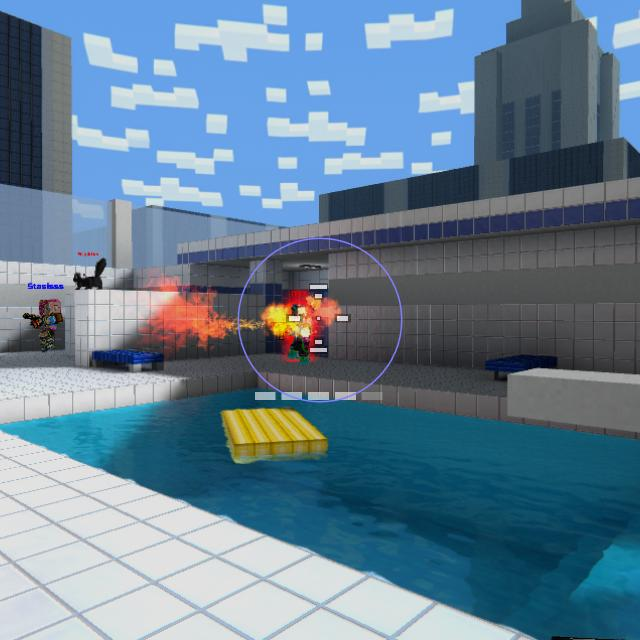Enemy: (285, 307, 313, 364)
